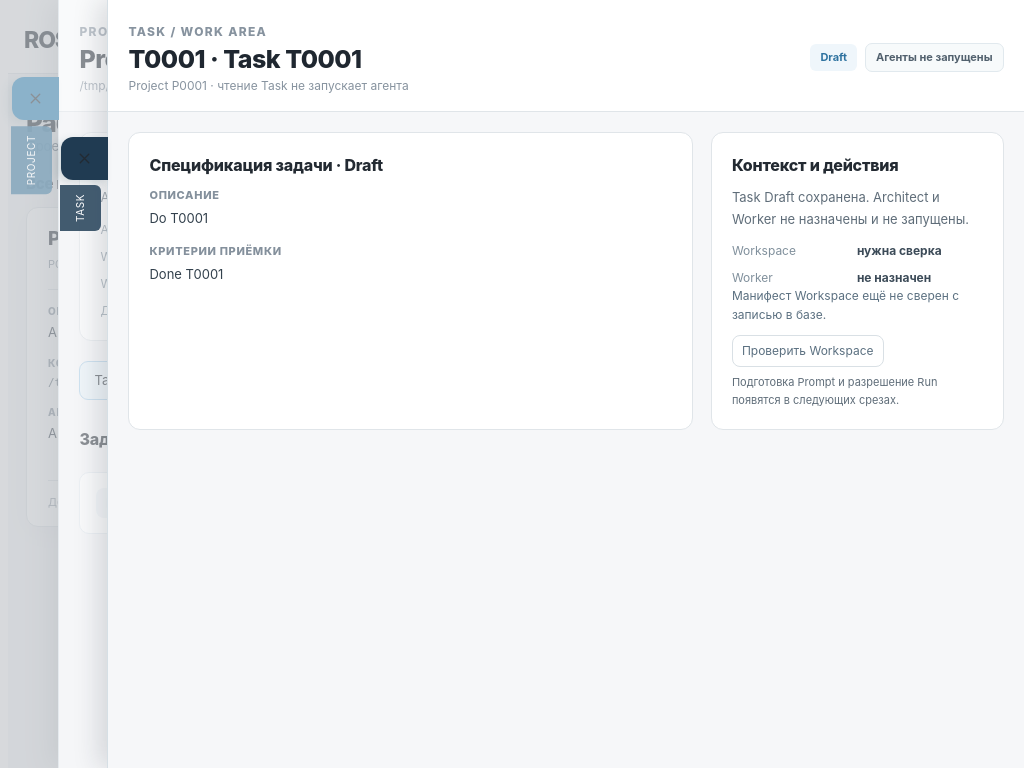
it: Workspace repair › keeps a failed Task reconcile error visible in the Task layer
The width and height of the screenshot is (1024, 768).
Click the button "Проверить Workspace". click: [808, 350]
box: [732, 334, 884, 366]
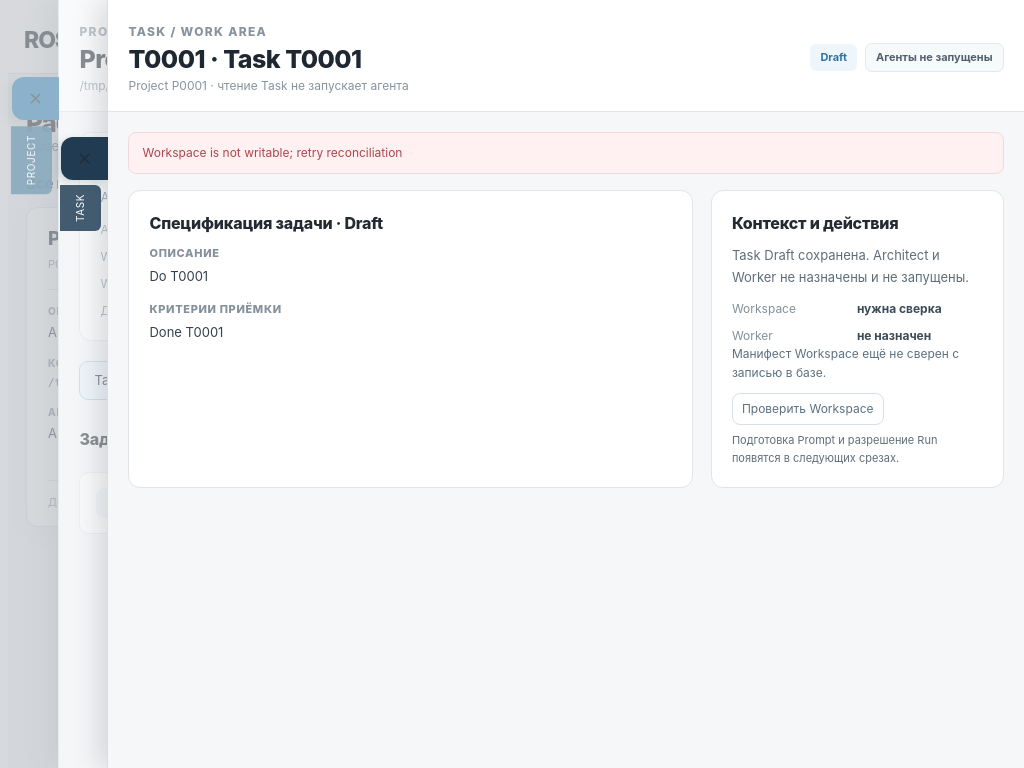
Result: the message reads "Workspace is not writable; retry reconciliation" at [142, 146, 402, 160]
